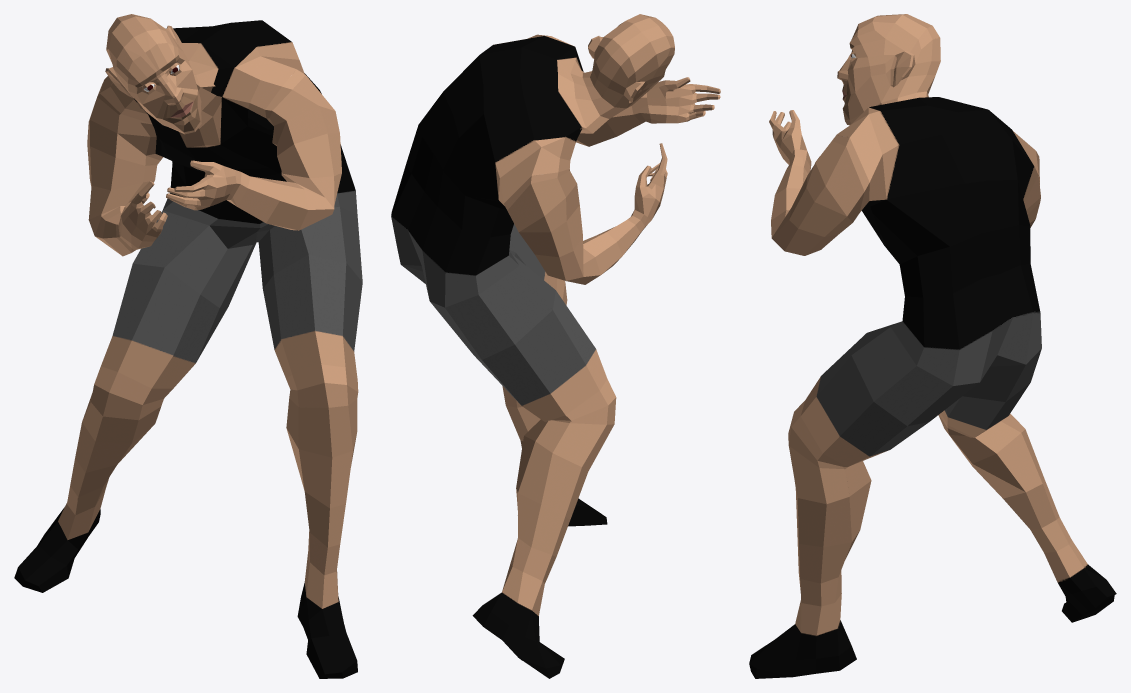
File: PlayerDead(4).obj
The picture shows the model from 3 angles, left to right: view 1: azimuth 30°, elevation 25°; view 2: azimuth 150°, elevation 25°; view 3: azimuth 270°, elevation 25°; orthographic projection. The views are drawn at different scales.
Visible parts, largest first — view 1: Plane002; view 2: Plane002; view 3: Plane002.
Part boxes in pixels (left/top/right/bottom): Plane002: left=14, top=14, right=362, bottom=678; Plane002: left=391, top=14, right=720, bottom=678; Plane002: left=749, top=14, right=1116, bottom=678.
Bounding box in the file's own units: 652 × 1493 × 829.
